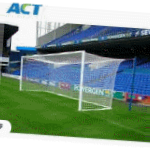goals: (18, 50, 121, 115)
